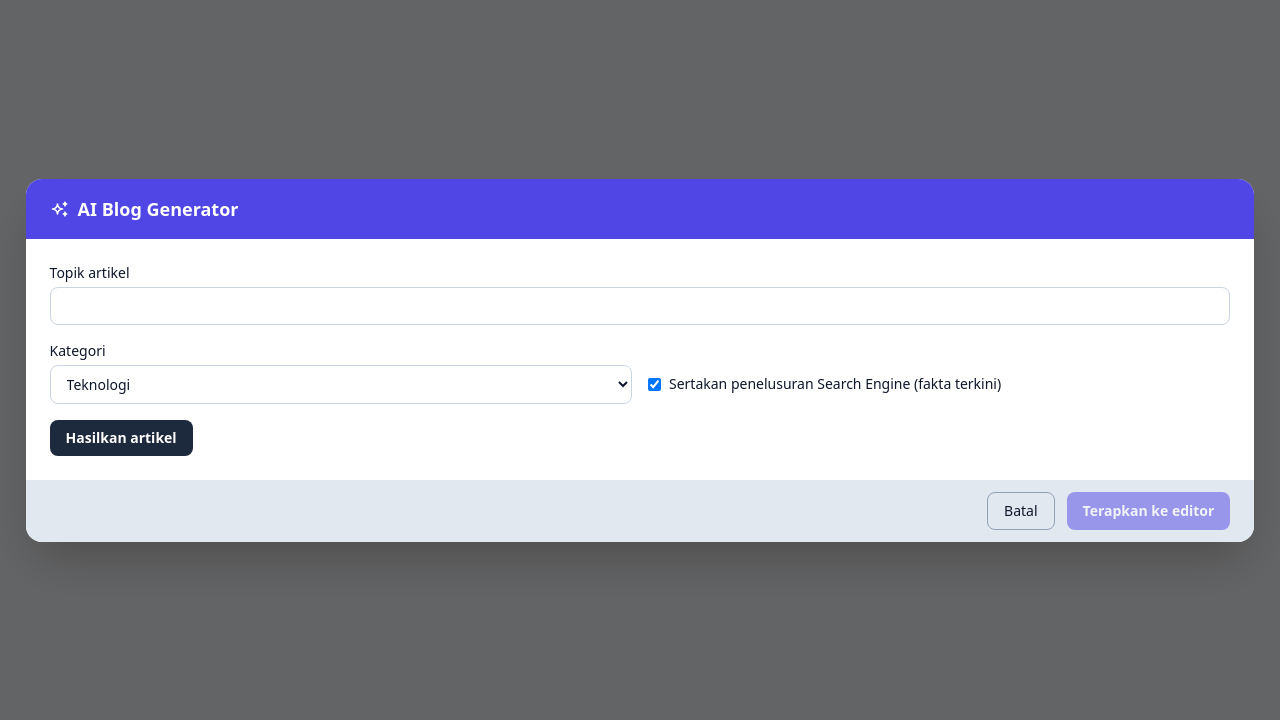
Test case: AiPostGeneratorModal › opsi search engine dimatikan, kategori diganti, tanpa sumber
Type "Topik" into the field labelled "Topik artikel" at (640, 306), box [50,286,1230,324]
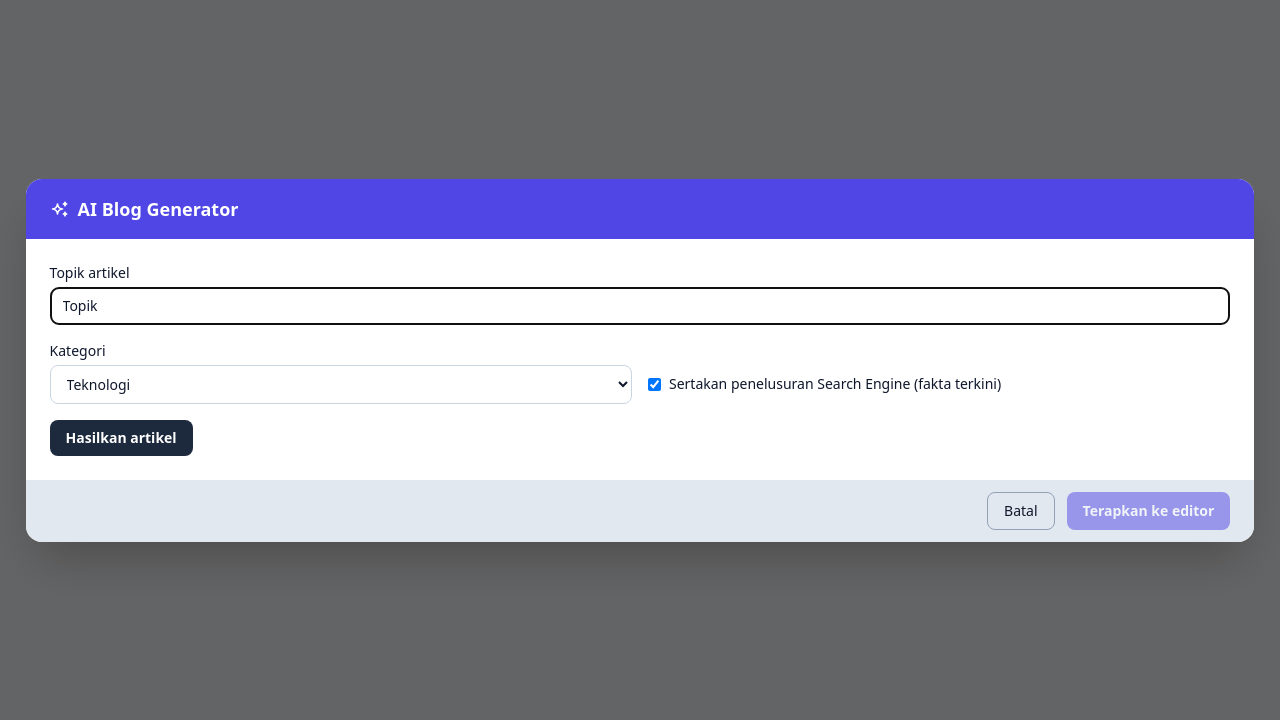
Select "Bisnis" in the dropdown labelled "Kategori" at (341, 384), box [50,364,632,404]
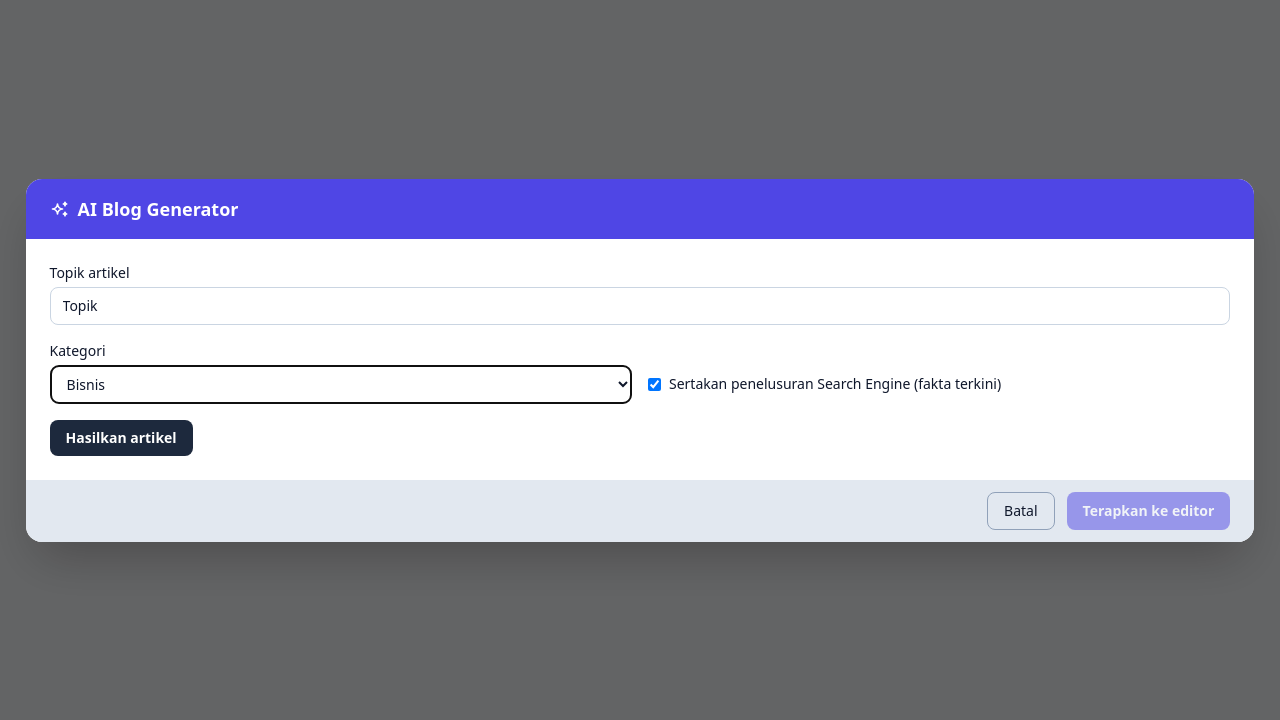
Click the checkbox at (654, 384), box [648,378,661,390]
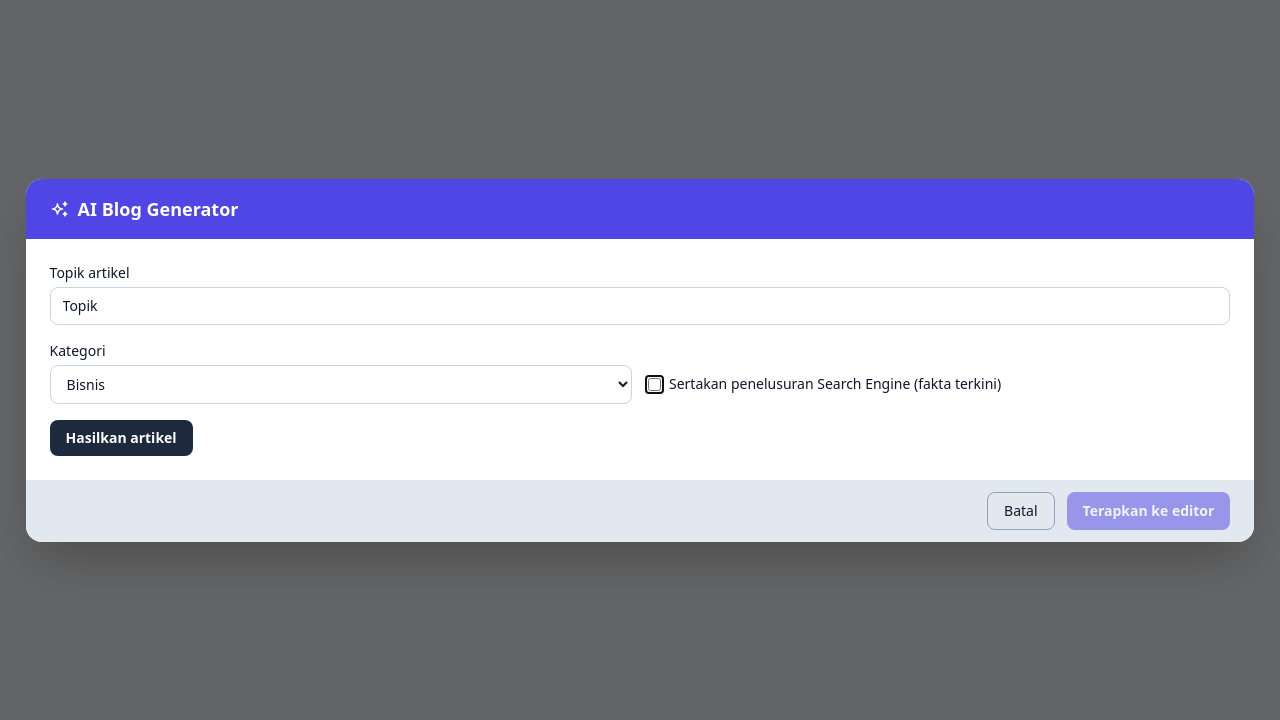
Click the button "Hasilkan artikel" at (121, 438), box [50,420,193,456]
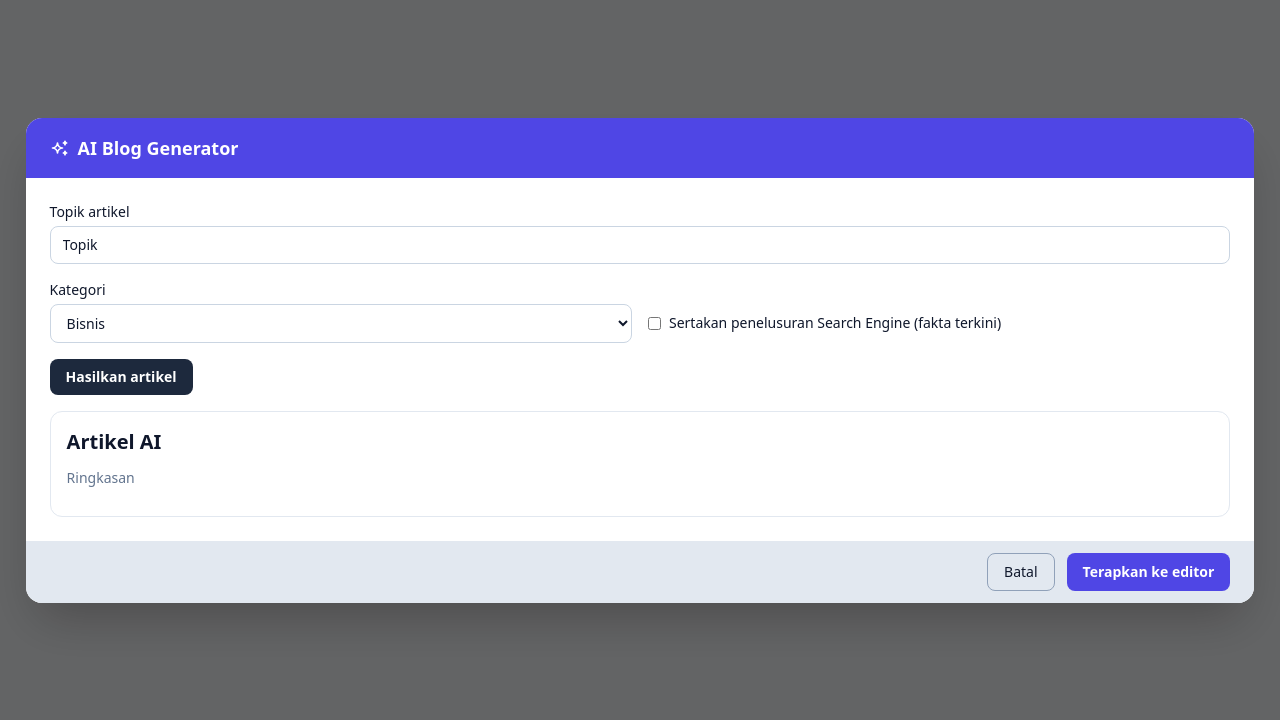
Now the heading "Artikel AI" is shown, box [67,428,161,454]
